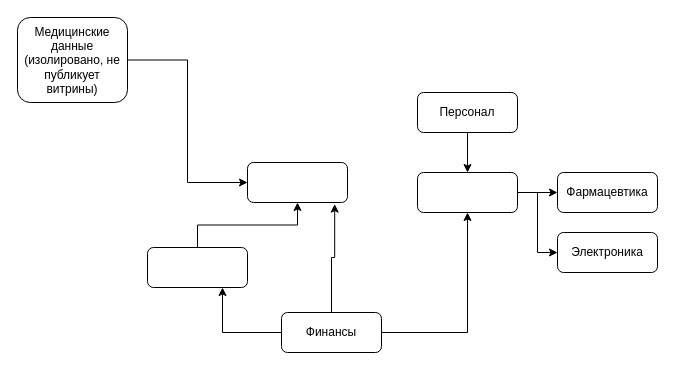
Some shapes in this 675 by 370 pixel diagram are drawn without their labels. Here are the shapes that lost their labels. From the top down, the box of each, then its label:
(246, 162, 348, 202): Клиенты
(416, 172, 518, 212): Инвентаризация
(146, 246, 248, 288): Кредиты
